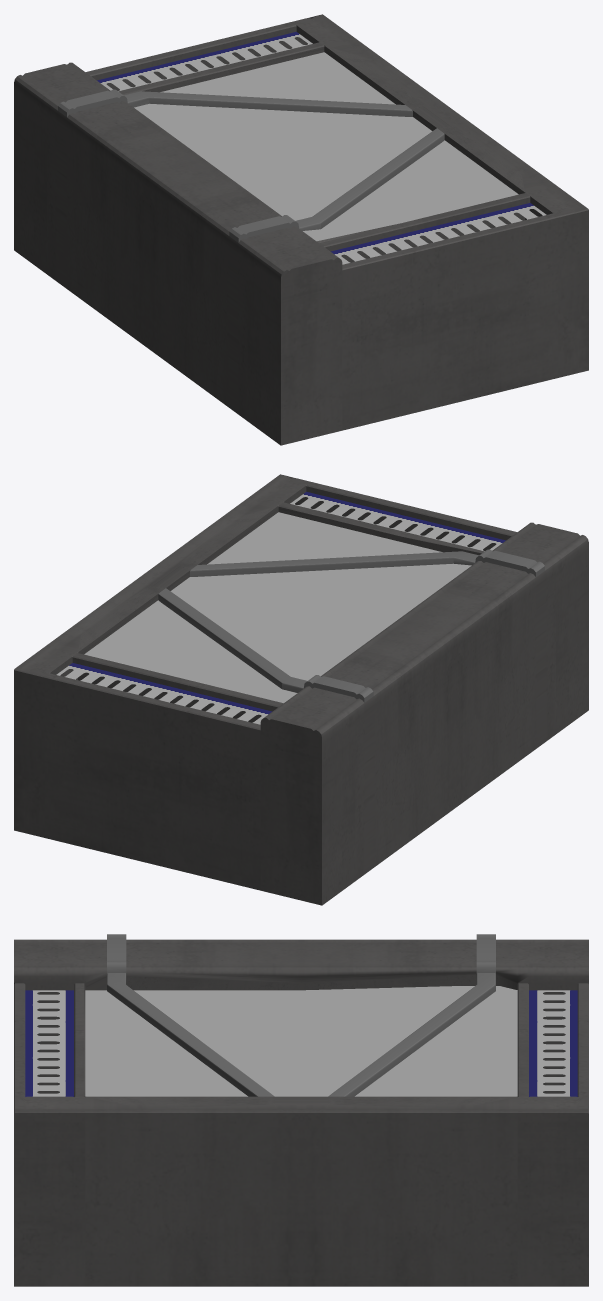
Rendered from Floor_GroundLights.fbx.
The picture shows the model from 3 angles, top to bottom: view 1: azimuth 30°, elevation 25°; view 2: azimuth 150°, elevation 25°; view 3: azimuth 270°, elevation 25°; orthographic projection. The views are drawn at different scales.
Visible parts, largest first — view 1: Corridor_Floor_GroundLights; view 2: Corridor_Floor_GroundLights; view 3: Corridor_Floor_GroundLights.
Boxes of the visible parts, x1,y1,x2,y2 form: Corridor_Floor_GroundLights: (14, 14, 588, 445); Corridor_Floor_GroundLights: (14, 474, 588, 905); Corridor_Floor_GroundLights: (14, 934, 588, 1286).
Bounding box in the file's own units: 200 × 111 × 300.
3 materials, 2 textured.
